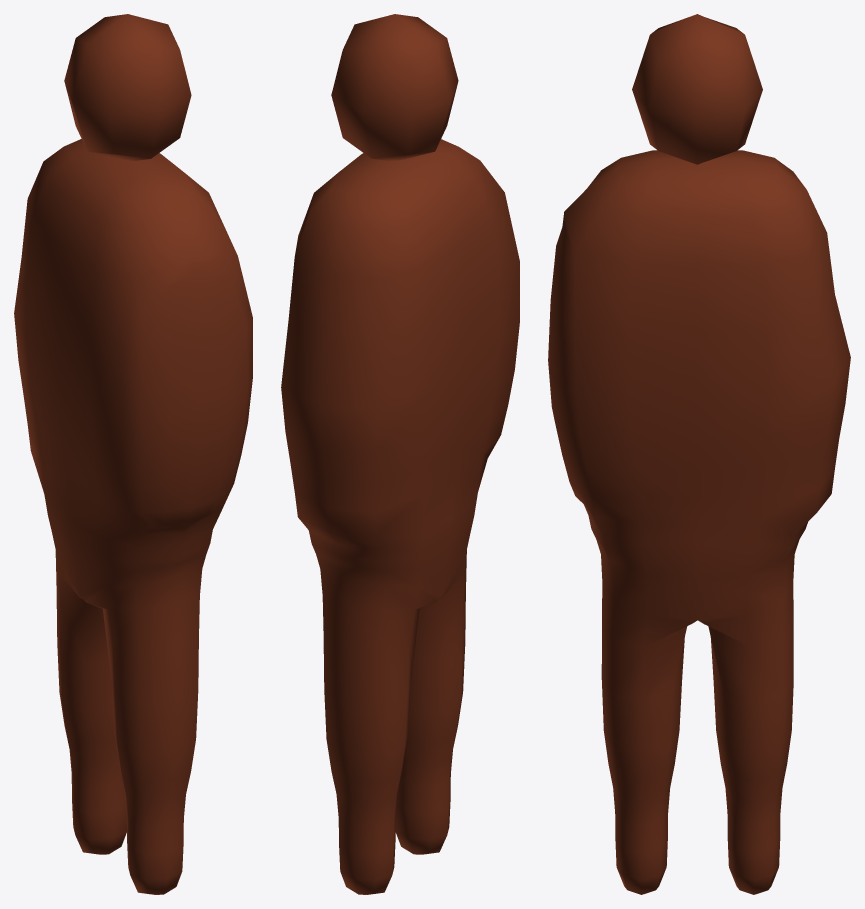
Rendered from sky person.fbx.
The picture shows the model from 3 angles, left to right: view 1: azimuth 30°, elevation 25°; view 2: azimuth 150°, elevation 25°; view 3: azimuth 270°, elevation 25°; orthographic projection. The views are drawn at different scales.
Parts seen in each view (by area): view 1: Cube.016; view 2: Cube.016; view 3: Cube.016.
Part boxes in pixels (x1=…): Cube.016: x1=14, y1=14, x2=252, y2=894; Cube.016: x1=281, y1=14, x2=519, y2=894; Cube.016: x1=548, y1=14, x2=850, y2=894.
Bounding box in the file's own units: 17.5 × 100 × 31.33.
